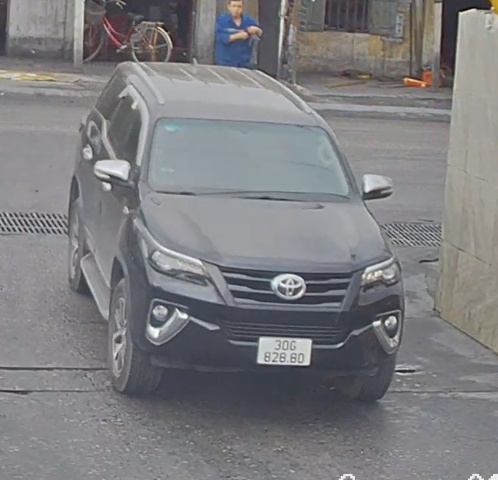vehicle plate: (256, 333, 313, 370)
